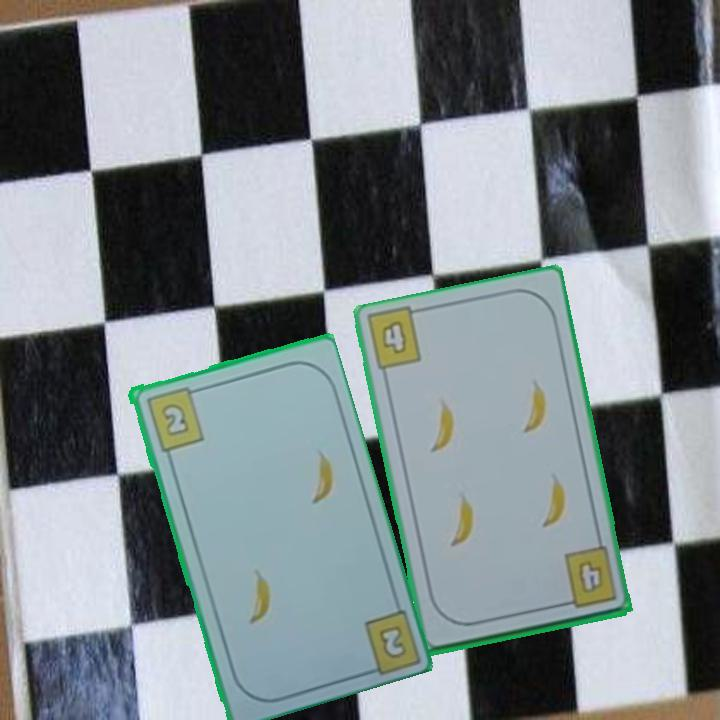2b: (142, 383, 207, 454), (374, 621, 409, 662)
4b: (555, 544, 620, 612), (377, 316, 410, 357)
